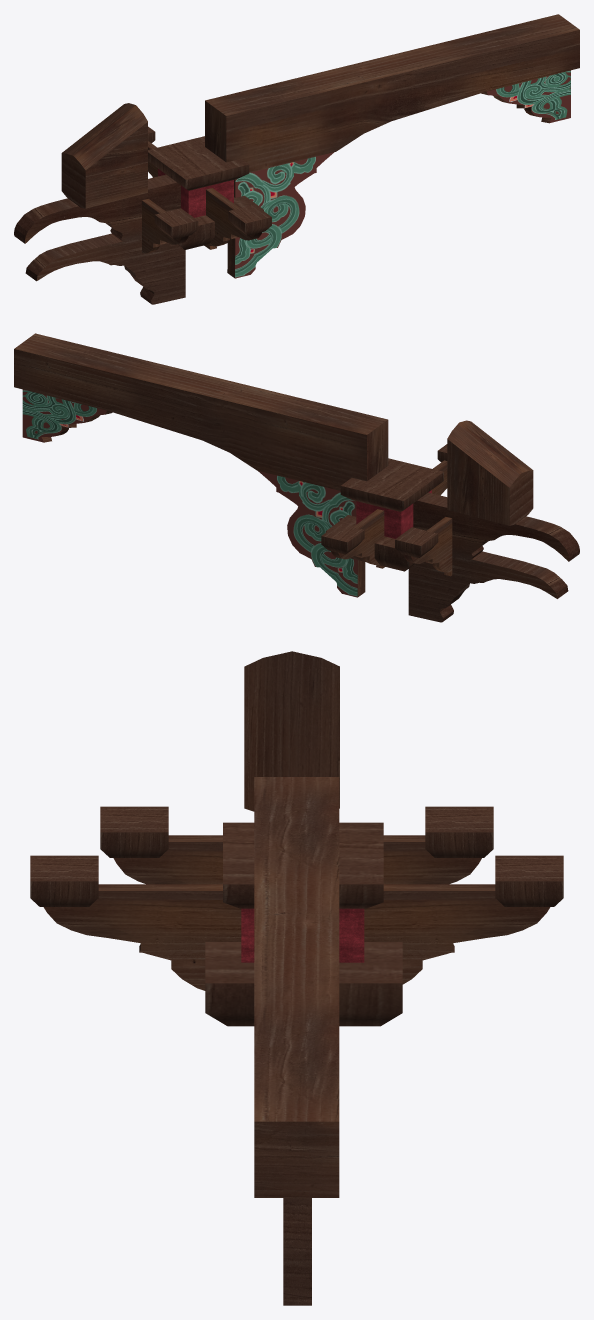
Rendered from SM_R_Beam_35.fbx.
3 renders of one model, top to bottom at view 1: azimuth 30°, elevation 25°; view 2: azimuth 150°, elevation 25°; view 3: azimuth 270°, elevation 25°, orthographic. The views are drawn at different scales.
Parts seen in each view (by area): view 1: SM_R_Beam_35; view 2: SM_R_Beam_35; view 3: SM_R_Beam_35.
Boxes of the visible parts, box(x1,y1,x2,y2) form: SM_R_Beam_35: box(14, 14, 579, 304); SM_R_Beam_35: box(14, 333, 579, 622); SM_R_Beam_35: box(30, 651, 563, 1305).
Size of the model in its own units: 361 by 152 by 125.
Materials: 5 (5 with a texture image).
